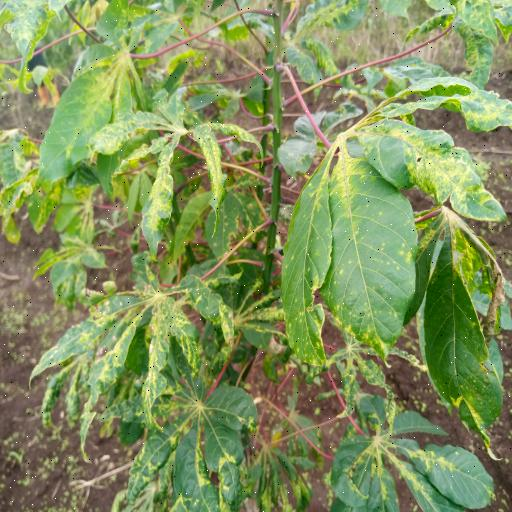Cassava_Mosaic: (285, 82, 512, 379), (30, 255, 235, 437), (98, 94, 254, 246), (342, 396, 500, 512), (135, 372, 256, 512)
